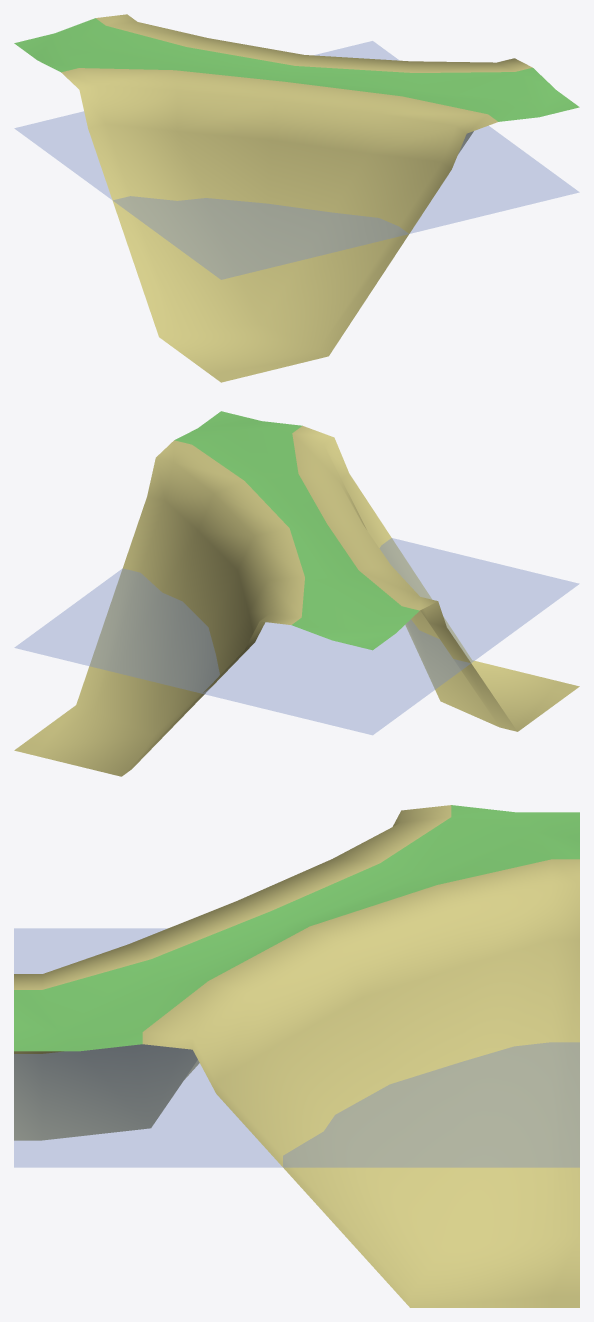
The model's file is tile_mid_water_1010.fbx.
The picture shows the model from 3 angles, top to bottom: view 1: azimuth 30°, elevation 25°; view 2: azimuth 150°, elevation 25°; view 3: azimuth 270°, elevation 25°; orthographic projection. The views are drawn at different scales.
Visible parts, largest first — view 1: tile_mid_water_1010; view 2: tile_mid_water_1010; view 3: tile_mid_water_1010.
Part boxes in pixels (x1=…): tile_mid_water_1010: x1=14, y1=14, x2=579, y2=382; tile_mid_water_1010: x1=14, y1=411, x2=579, y2=776; tile_mid_water_1010: x1=14, y1=805, x2=579, y2=1307.
Bounding box in the file's own units: 2 × 1.03 × 2.
